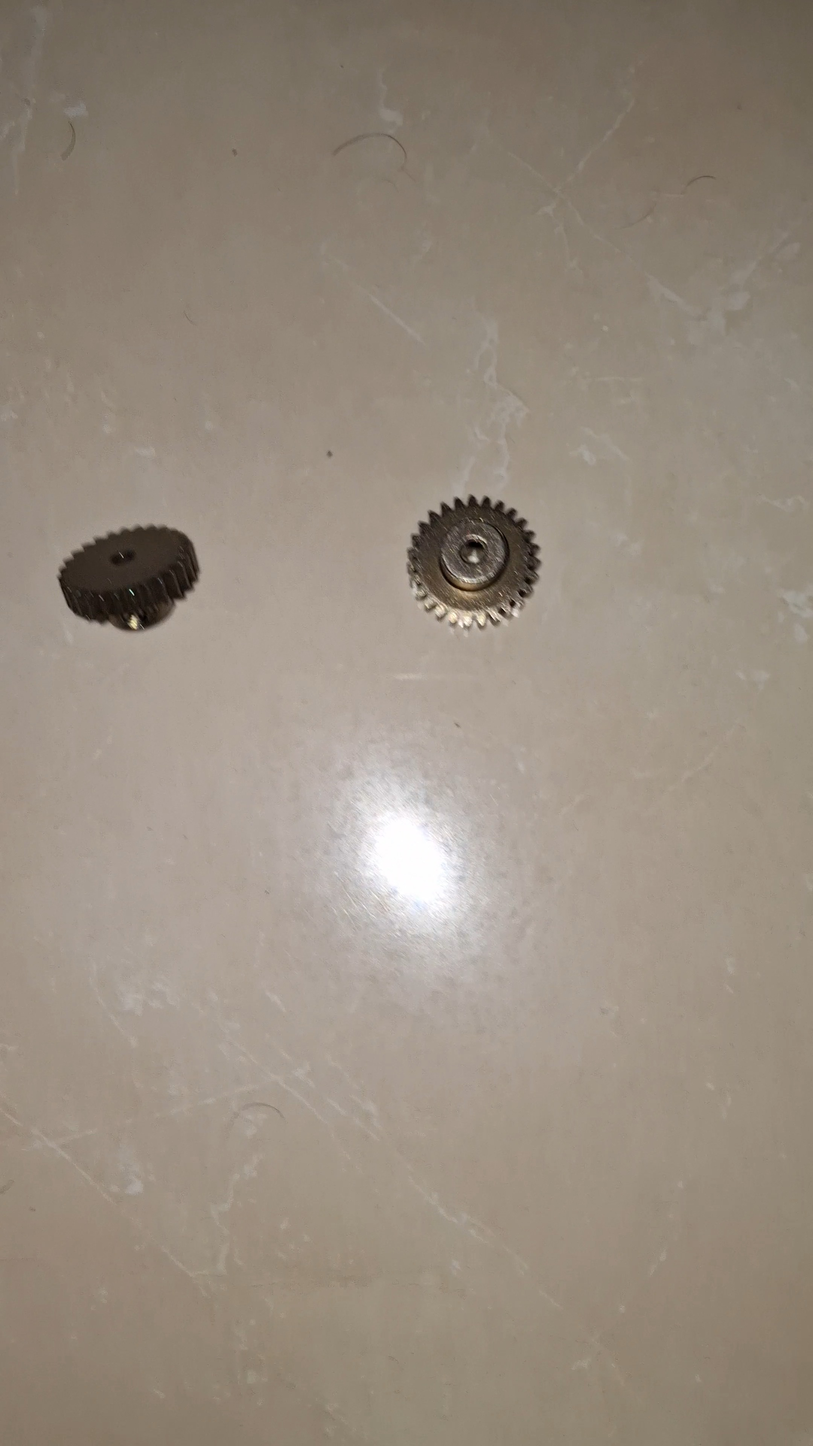spur gear: (408, 496, 539, 628), (59, 526, 198, 630)
